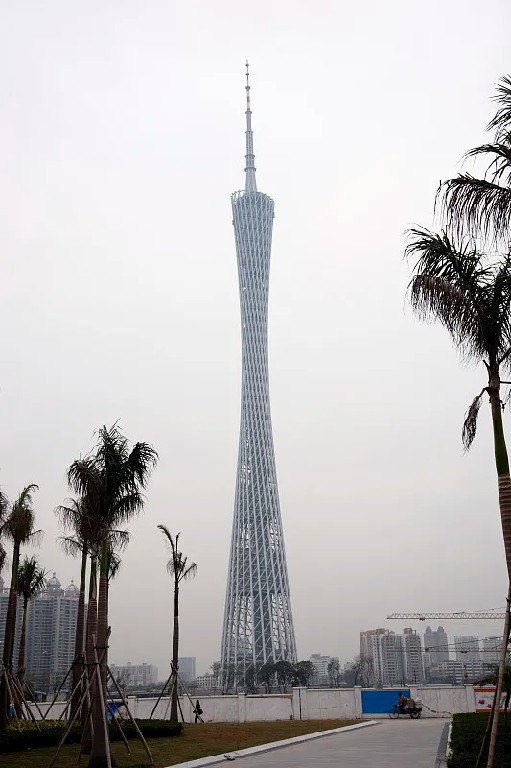Canton: (219, 58, 301, 676)
